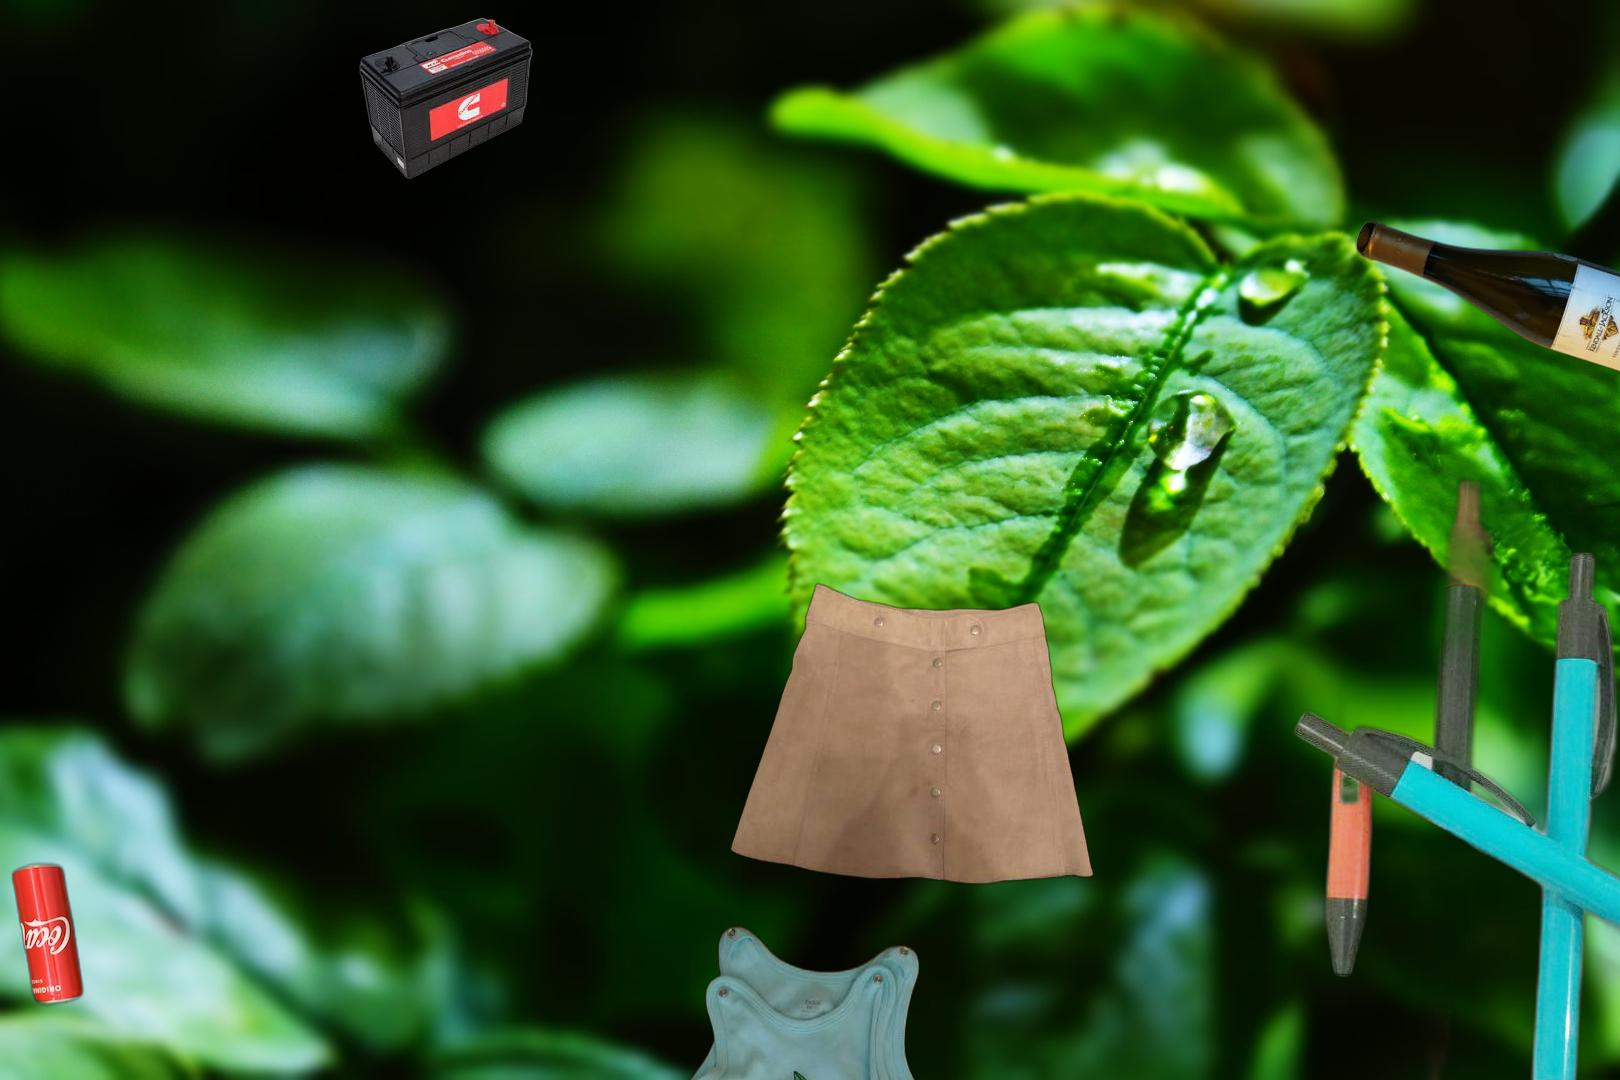battery: (356, 12, 536, 182)
clothes: (727, 579, 1098, 890), (635, 920, 985, 1080)
glass: (1289, 113, 1620, 392)
metal-cans: (7, 857, 88, 1010)
penholder: (944, 472, 1620, 1080), (1186, 1033, 1620, 1080)
